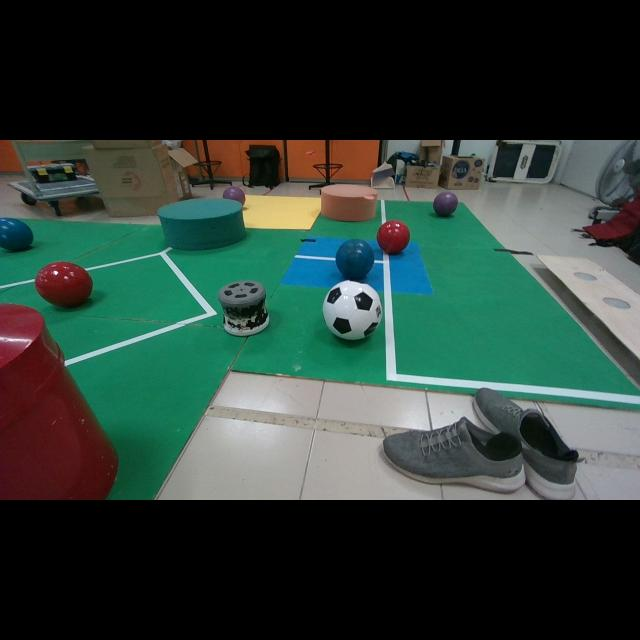B: (335, 239, 375, 279), (0, 218, 34, 251)
P: (432, 192, 458, 217), (222, 186, 245, 205)
R: (36, 261, 92, 307), (376, 220, 410, 255)
